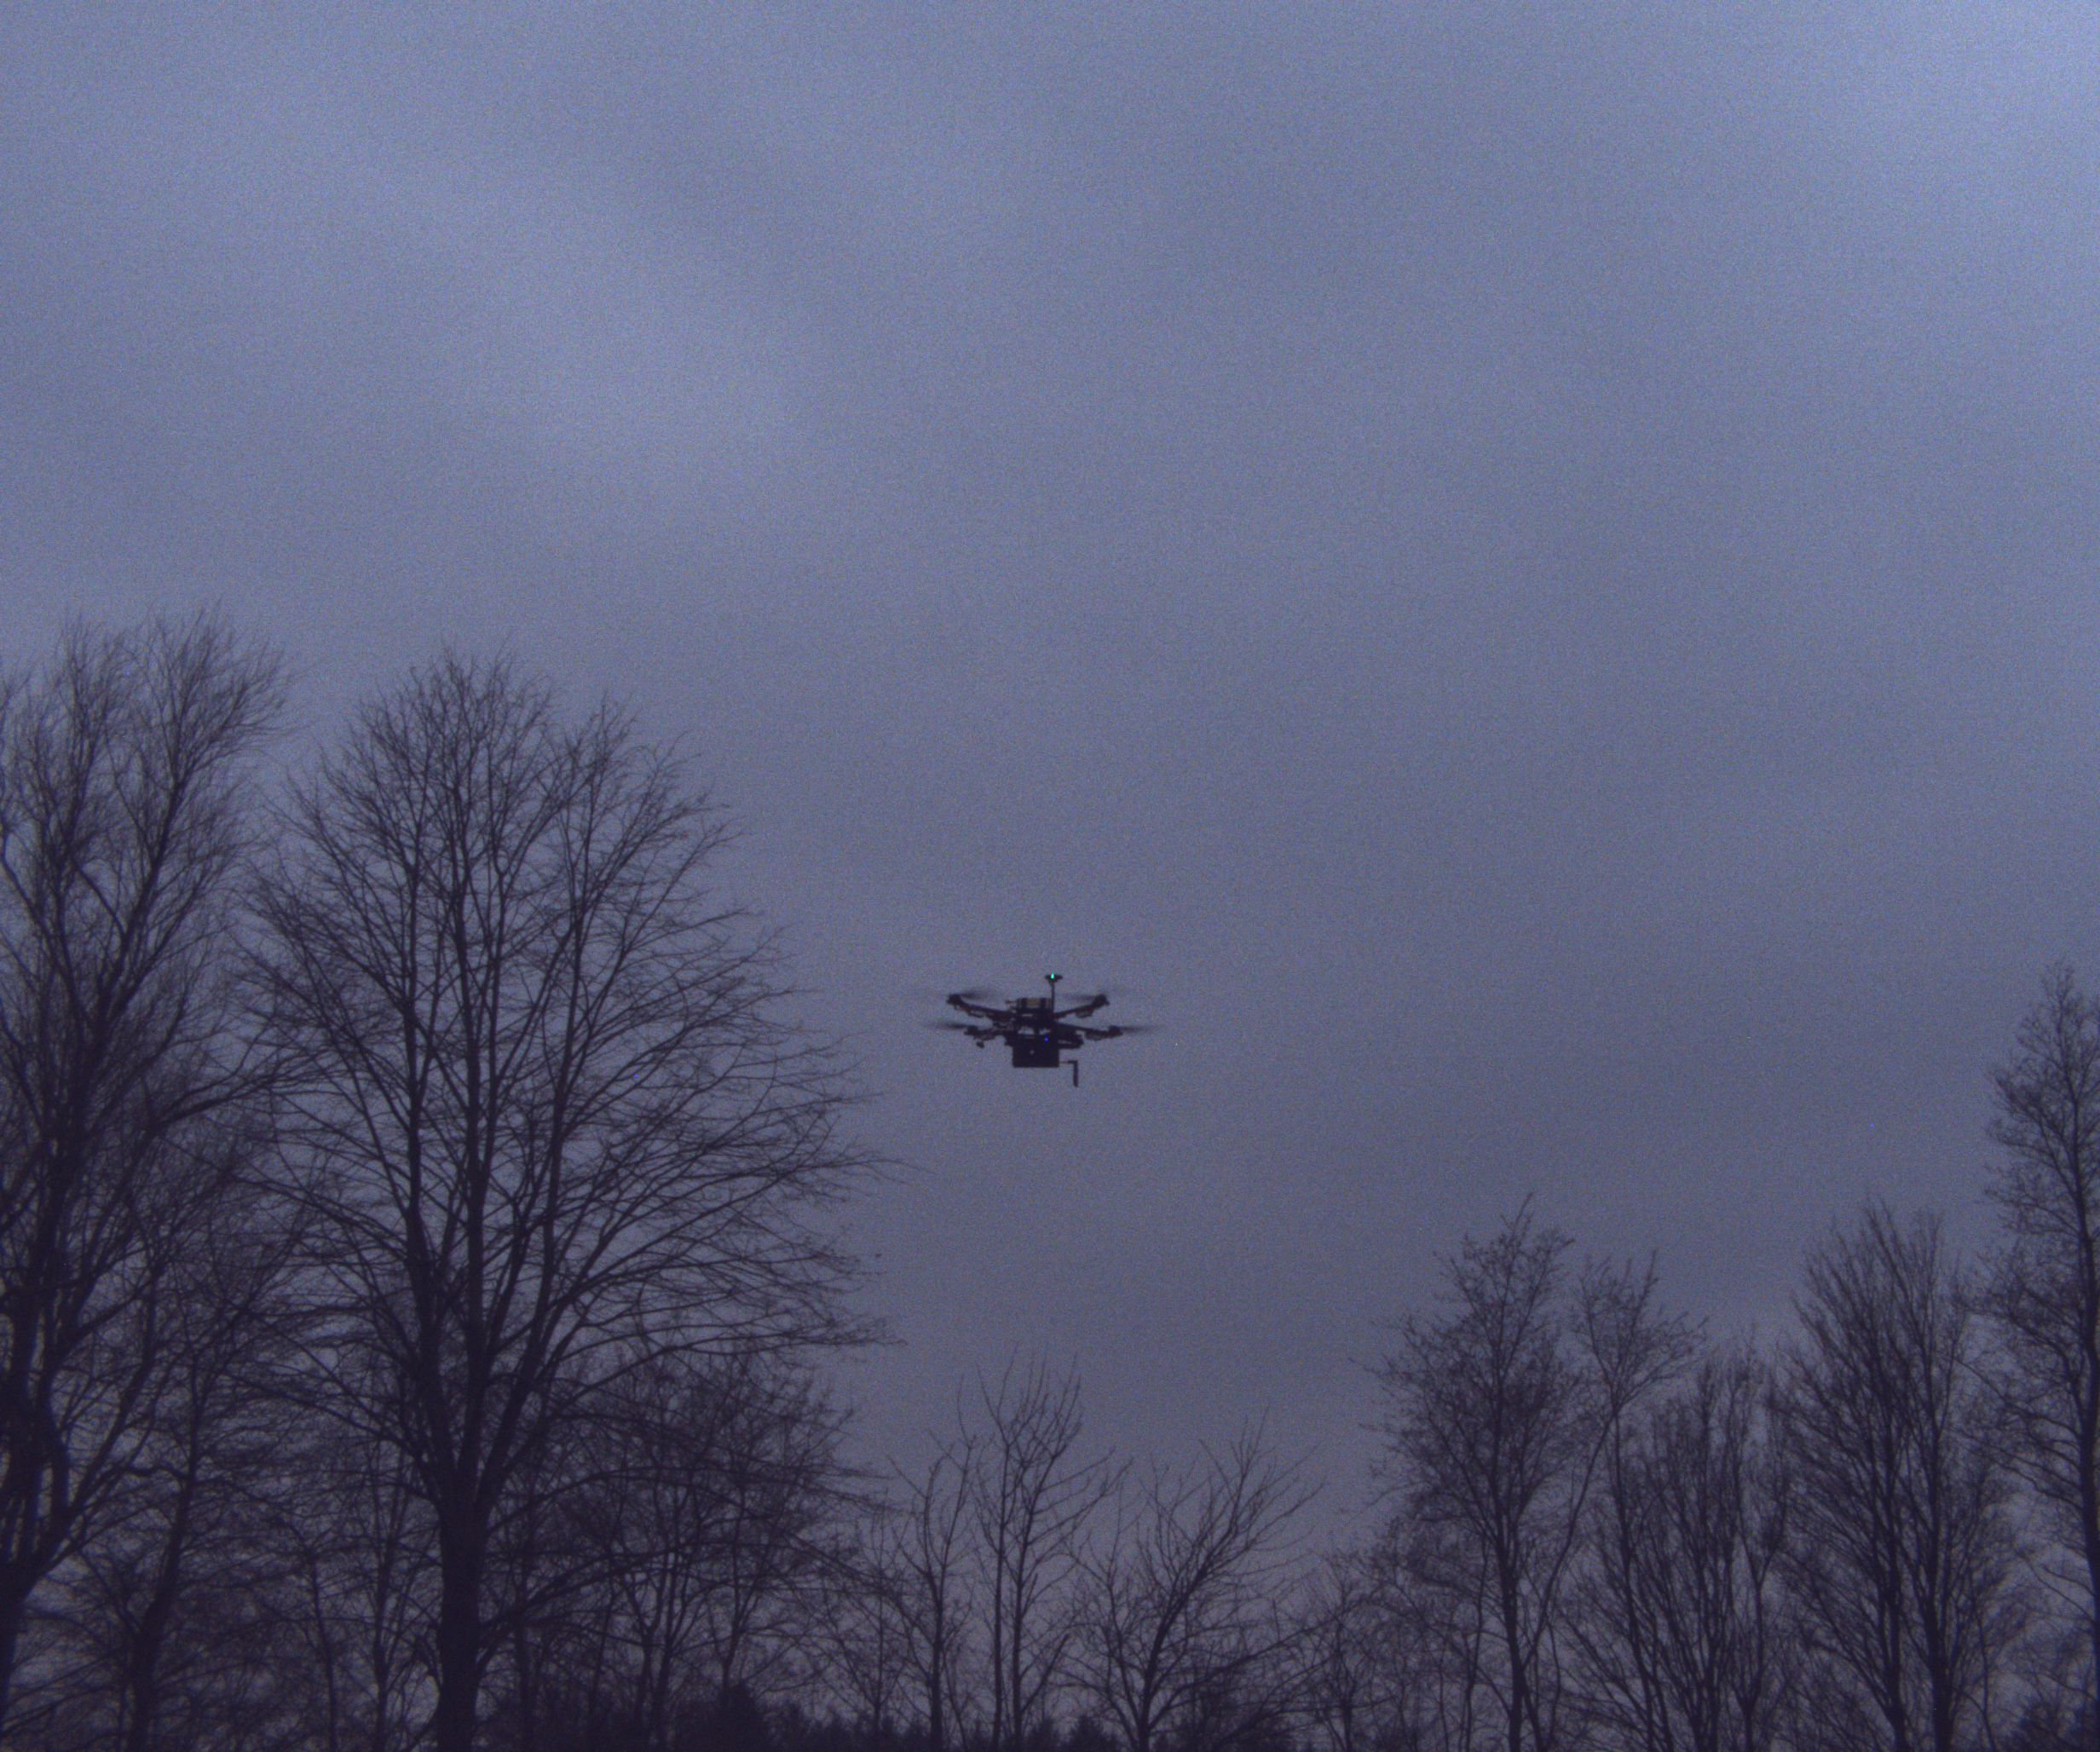Drohne: (947, 948, 1210, 1112)
